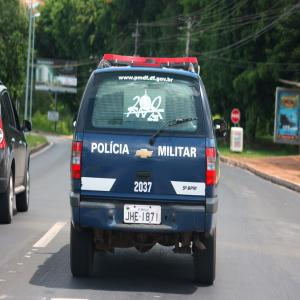Vehicle-registration-plate: (125, 205, 162, 225)
